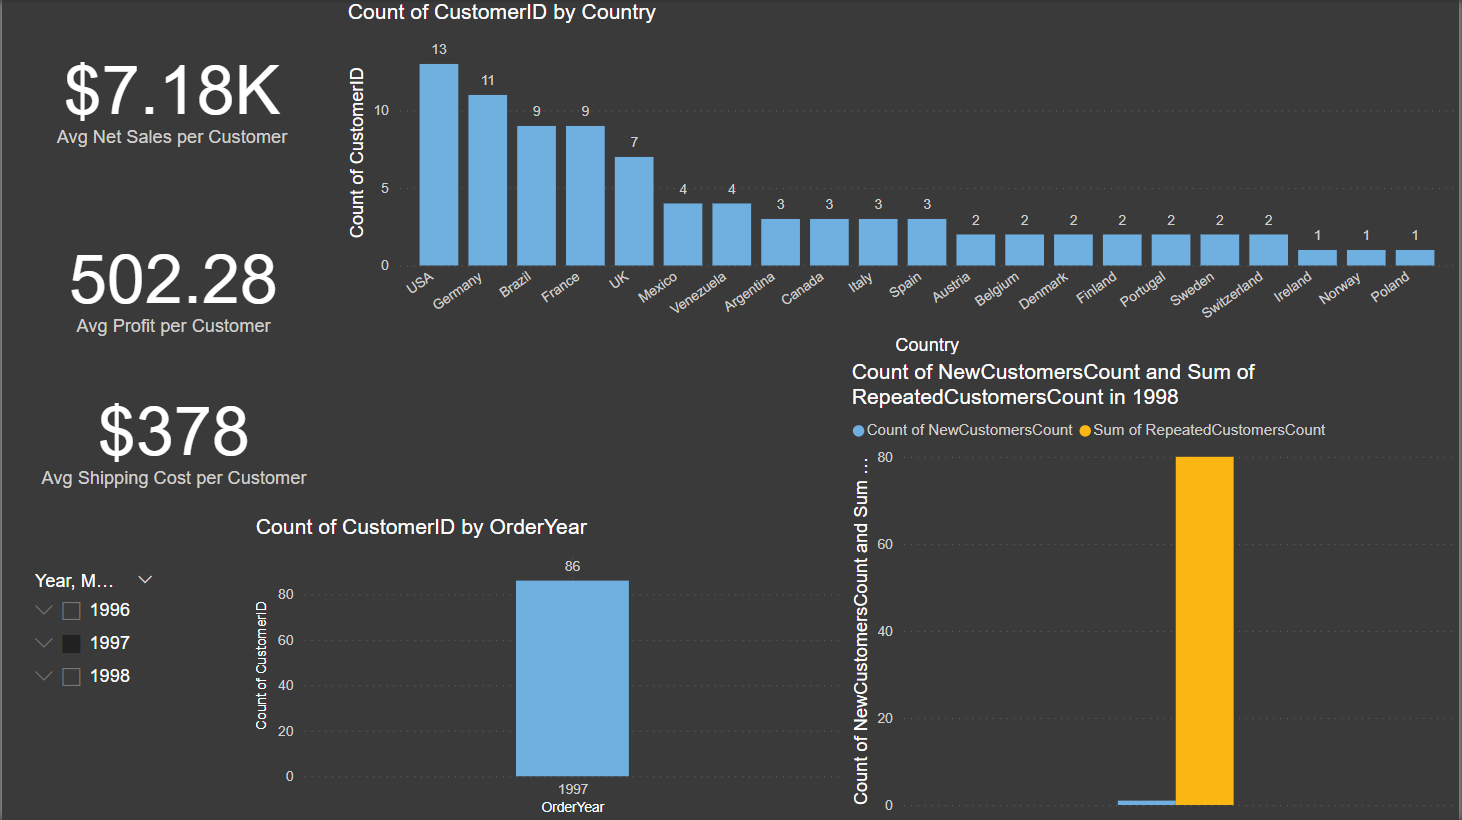

The dashboard page shown, as its layout file describes it:
{"tool":"powerbi","page":{"name":"Customers Report:","canvas":[1280,720],"ordinal":2},"visuals":[{"type":"card","fields":{"Values":["Categories.Avg Net Sales per Customer"]},"box":[0,0,298.6,165.9],"z":0},{"type":"card","fields":{"Values":["Categories.Avg Profit per Customer"]},"box":[0,165.6,301.3,165.6],"z":1000},{"type":"card","fields":{"Values":["Categories.Avg Shipping Cost per Customer"]},"box":[0,316.1,302,132.6],"z":2000},{"type":"slicer","fields":{"Values":["DateDimension_new.Year","DateDimension_new.MonthName"]},"box":[16,495.7,128.6,224.3],"z":3000},{"type":"clusteredColumnChart","fields":{"Category":["Orders.OrderYear"],"Y":["Count(Orders.CustomerID)"]},"box":[217.5,451.9,523.8,268.4],"z":4000},{"type":"clusteredColumnChart","fields":{"Category":["Customers.Country"],"Y":["Count(Orders.CustomerID)"]},"box":[741.3,0,538.7,316.3],"z":5000},{"type":"clusteredColumnChart","title":"Count of NewCustomersCount and Sum of RepeatedCustomersCount in 1998","fields":{"Y":["CountNonNull(CustomerCountsView.NewCustomersCount)","Sum(CustomerCountsView.RepeatedCustomersCount)"]},"box":[741.3,316.3,538.7,404.1],"z":6000}]}

Visuals, with their boxes in screenshot pixels (x1, y1, x2, y2), scaled from the page's 1280x720 canvas onto the 1462x820 screenshot:
card - Categories.Avg Net Sales per Customer: [0,0,341,189]
card - Categories.Avg Profit per Customer: [0,189,344,377]
card - Categories.Avg Shipping Cost per Customer: [0,360,345,511]
slicer - DateDimension_new.Year x DateDimension_new.MonthName: [18,565,165,819]
clusteredColumnChart - Orders.OrderYear x Count(Orders.CustomerID): [248,515,847,819]
clusteredColumnChart - Customers.Country x Count(Orders.CustomerID): [847,0,1461,360]
"Count of NewCustomersCount and Sum of RepeatedCustomersCount in 1998" clusteredColumnChart: [847,360,1461,819]
